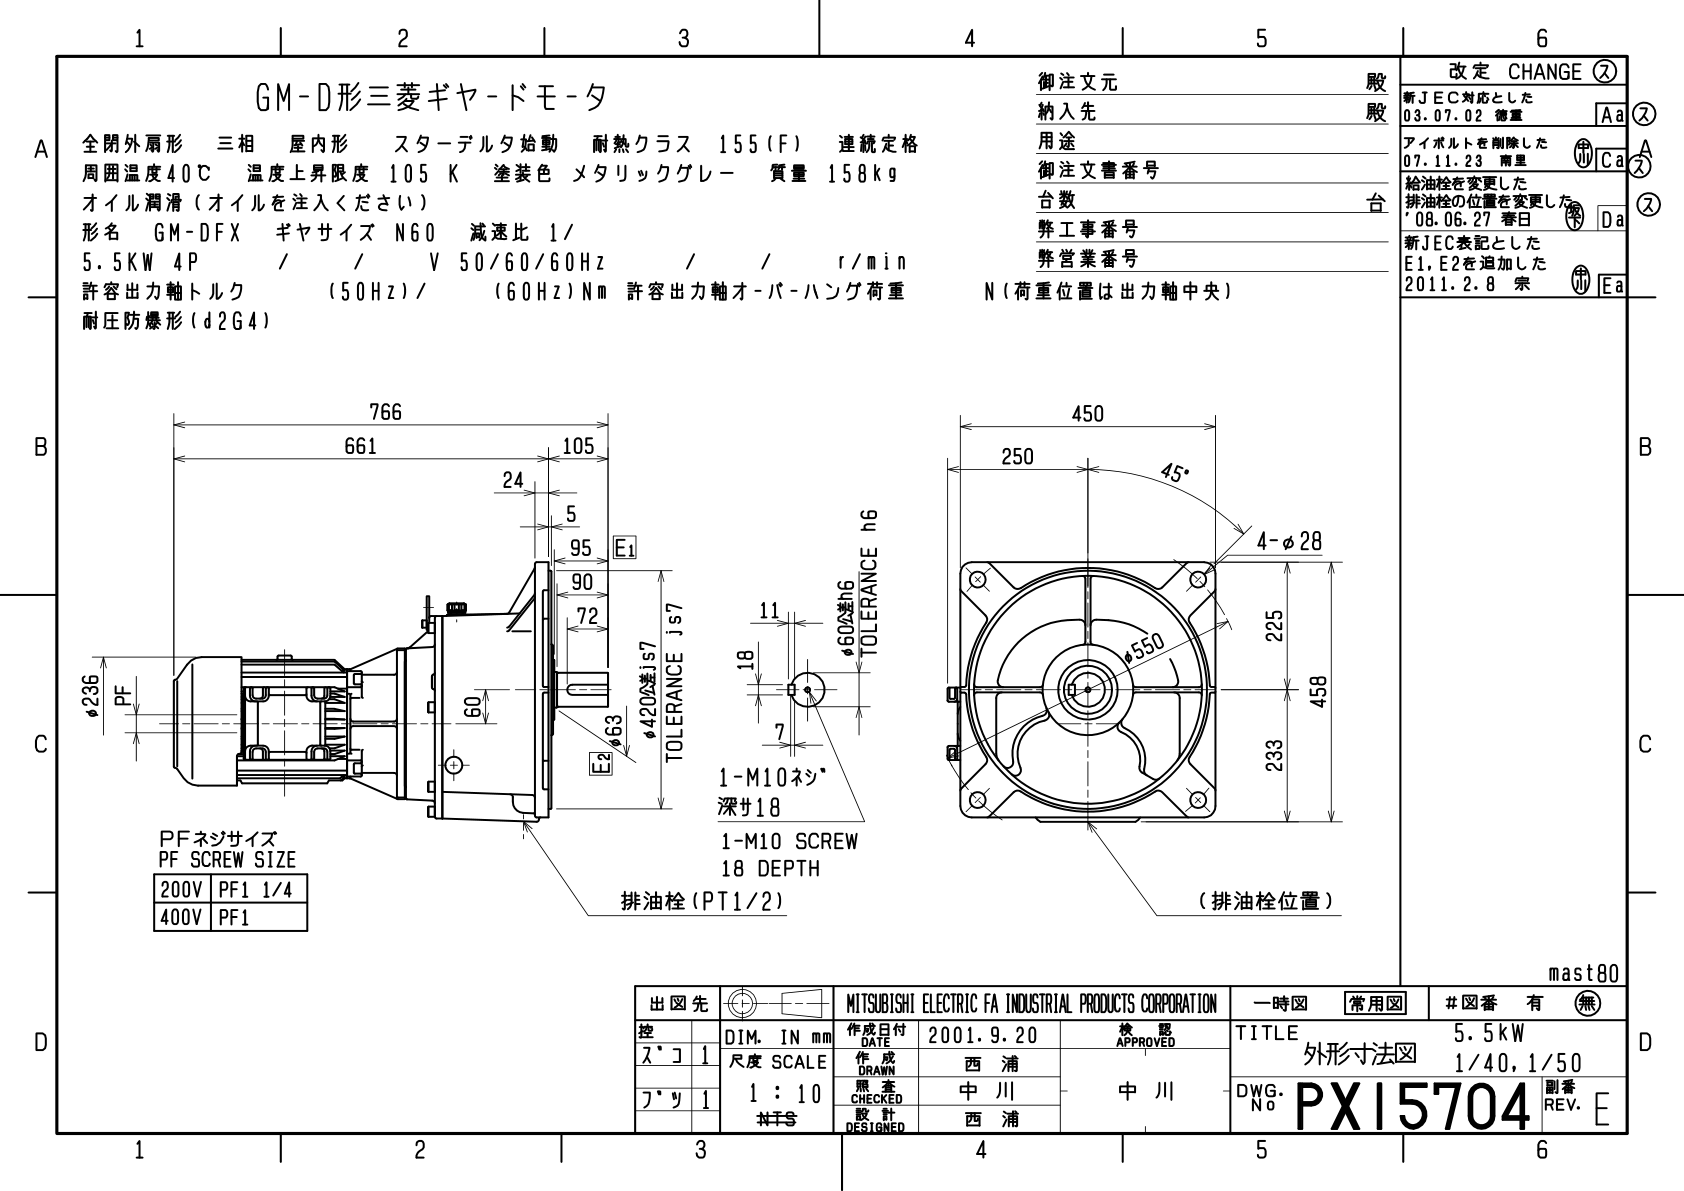GM_SP_屋内＿三相_フランジ: (73, 402, 1379, 955)
